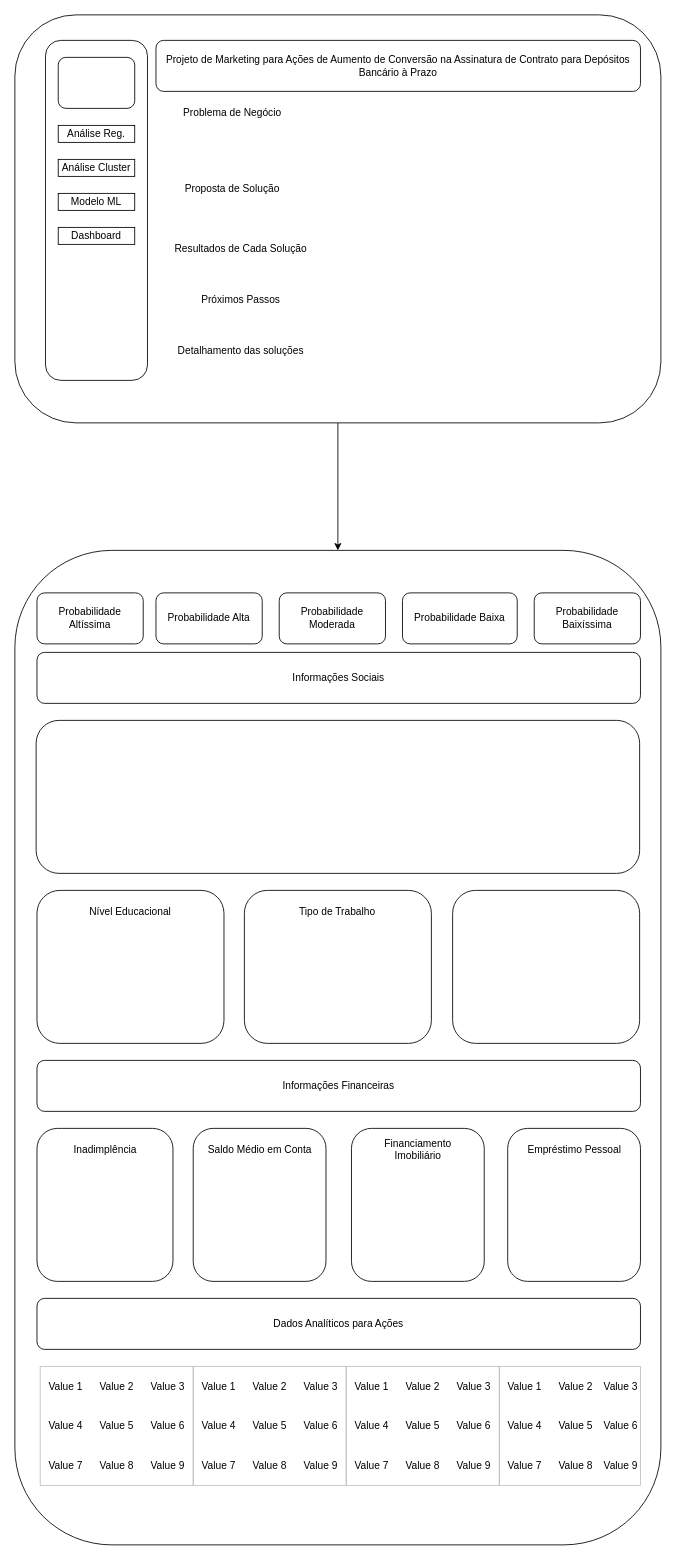
Some shapes in this 676 by 1560 pixel diagram are drawn without their labels. Each missing label, with the centre of its shape:
"Distribuição da Idade dos Clientes" belongs at (337,796).
"Imagem" belongs at (96,82).
"Status Matrimonial" belongs at (546,966).
